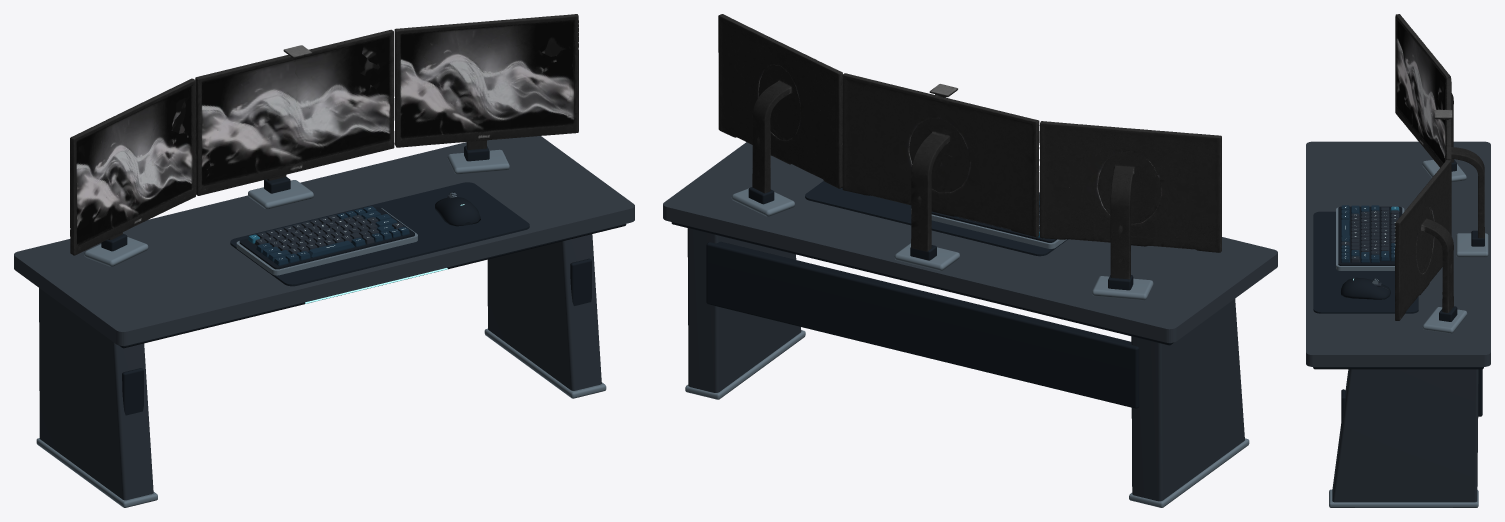
File: office-desk.glb
The picture shows the model from 3 angles, left to right: view 1: azimuth 30°, elevation 25°; view 2: azimuth 150°, elevation 25°; view 3: azimuth 270°, elevation 25°; orthographic projection. The views are drawn at different scales.
Parts seen in each view (by area): view 1: Reused display atlas | neutralized trim, Desk top | graphite satin, Satin graphite, Desk mat | charcoal, Brushed gunmetal, Matte black polymer, Keys | charcoal PBT, Keys | ink blue PBT; view 2: Reused display atlas | neutralized trim, Desk top | graphite satin, Matte black polymer, Satin graphite, Brushed gunmetal, Desk mat | charcoal; view 3: Desk top | graphite satin, Satin graphite, Reused display atlas | neutralized trim, Desk mat | charcoal, Matte black polymer, Brushed gunmetal, Keys | charcoal PBT, Keys | ink blue PBT.
Boxes of the visible parts, <box> form: Reused display atlas | neutralized trim: <box>70,14,578,255</box>; Desk top | graphite satin: <box>14,136,634,345</box>; Satin graphite: <box>39,234,601,500</box>; Desk mat | charcoal: <box>230,182,529,286</box>; Brushed gunmetal: <box>36,149,606,507</box>; Matte black polymer: <box>101,145,626,415</box>; Keys | charcoal PBT: <box>255,195,450,254</box>; Keys | ink blue PBT: <box>256,206,409,265</box>; Reused display atlas | neutralized trim: <box>718,14,1221,279</box>; Desk top | graphite satin: <box>663,142,1277,342</box>; Matte black polymer: <box>671,187,1173,408</box>; Satin graphite: <box>687,228,1244,501</box>; Brushed gunmetal: <box>685,188,1249,507</box>; Desk mat | charcoal: <box>805,181,1067,256</box>; Desk top | graphite satin: <box>1306,141,1490,366</box>; Satin graphite: <box>1332,369,1478,502</box>; Reused display atlas | neutralized trim: <box>1395,14,1484,320</box>; Desk mat | charcoal: <box>1313,211,1418,313</box>; Matte black polymer: <box>1313,160,1484,429</box>; Brushed gunmetal: <box>1329,159,1488,507</box>; Keys | charcoal PBT: <box>1341,207,1399,289</box>; Keys | ink blue PBT: <box>1341,205,1395,262</box>.
Size of the model in its own units: 1.89 by 1.22 by 0.692.
11 materials, 1 textured.
